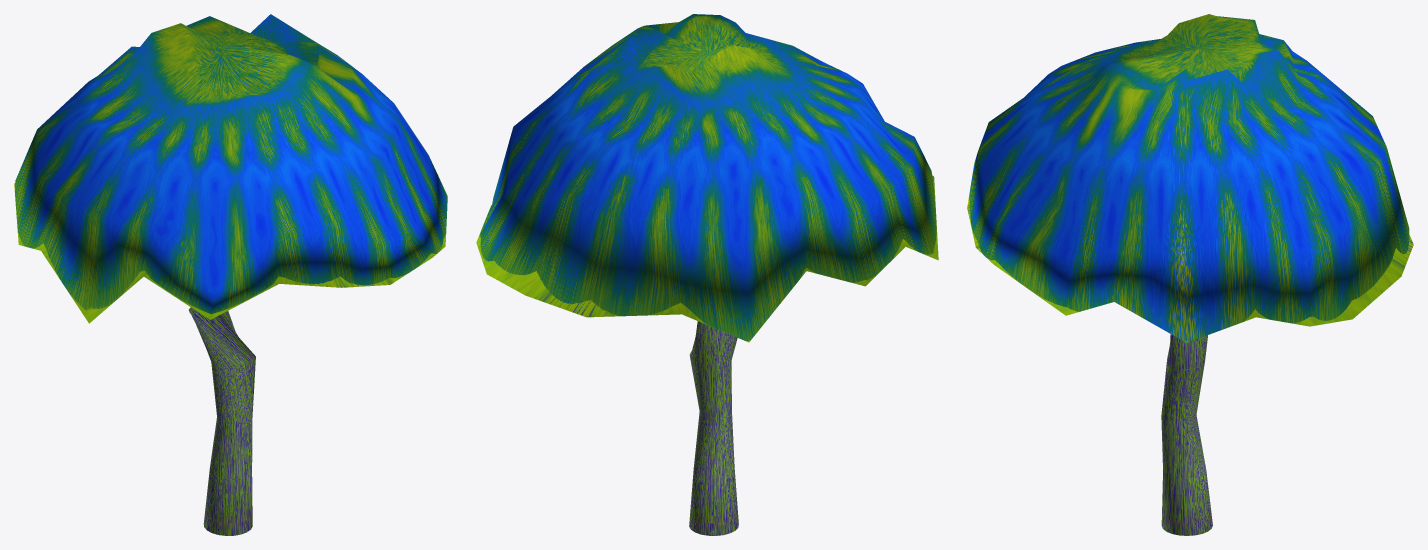
The model's file is mushroom4.fbx.
3 renders of one model, left to right at view 1: azimuth 30°, elevation 25°; view 2: azimuth 150°, elevation 25°; view 3: azimuth 270°, elevation 25°, orthographic.
Parts seen in each view (by area): view 1: pCylinder3; view 2: pCylinder3; view 3: pCylinder3.
Boxes of the visible parts, x1,y1,x2,y2 form: pCylinder3: [14, 14, 447, 535]; pCylinder3: [476, 14, 938, 535]; pCylinder3: [967, 14, 1413, 535].
Bounding box in the file's own units: 9.14 × 11.42 × 9.3.
Materials: 3 (3 with a texture image).
